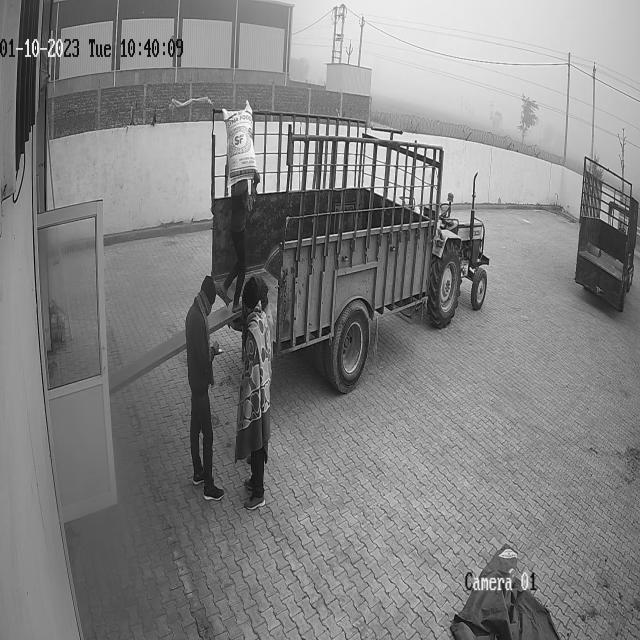sack: (222, 100, 258, 188)
